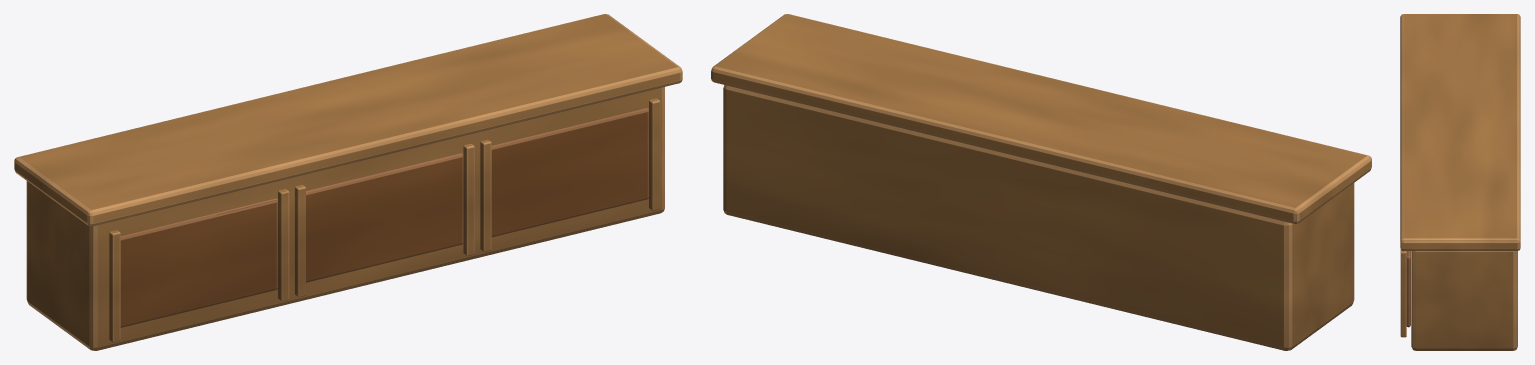
File: 08_Window_Seat.fbx
The picture shows the model from 3 angles, left to right: view 1: azimuth 30°, elevation 25°; view 2: azimuth 150°, elevation 25°; view 3: azimuth 270°, elevation 25°; orthographic projection. The views are drawn at different scales.
Parts seen in each view (by area): view 1: 08_Window_Seat; view 2: 08_Window_Seat; view 3: 08_Window_Seat.
Boxes of the visible parts, bbox=[...] form: 08_Window_Seat: bbox=[14, 14, 682, 350]; 08_Window_Seat: bbox=[711, 14, 1371, 350]; 08_Window_Seat: bbox=[1400, 14, 1520, 350].
Size of the model in its own units: 388 by 93 by 87.
Materials: 1 (1 with a texture image).
